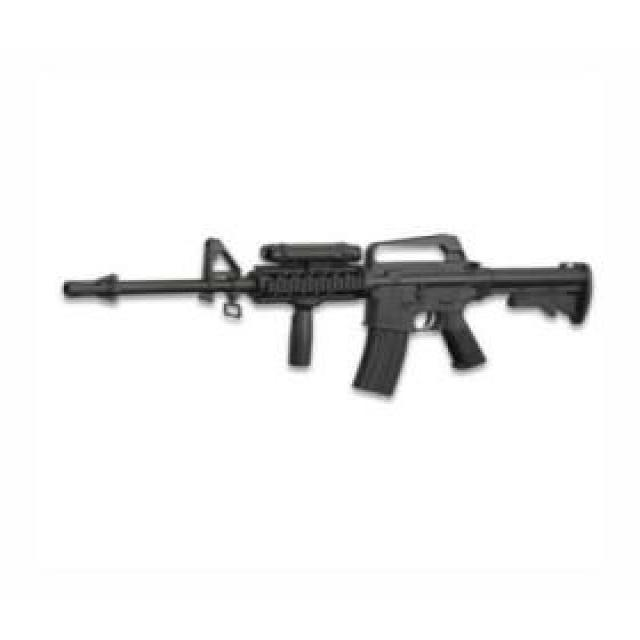weapon: (60, 232, 596, 398)
